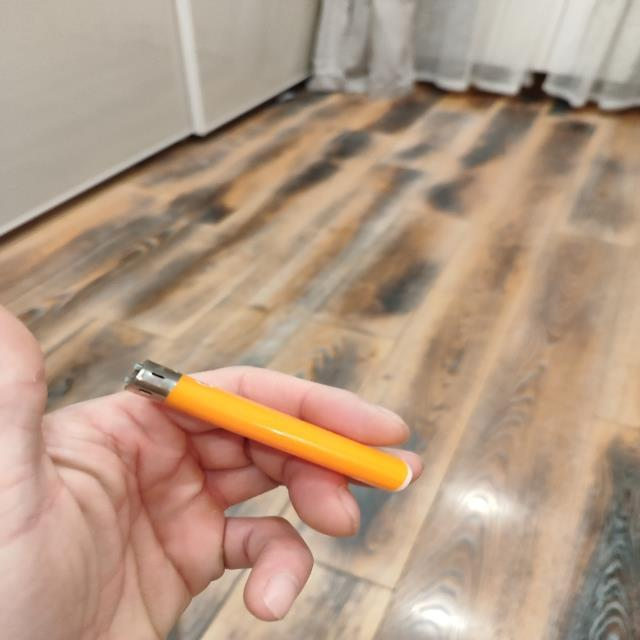lighter: (126, 361, 410, 491)
